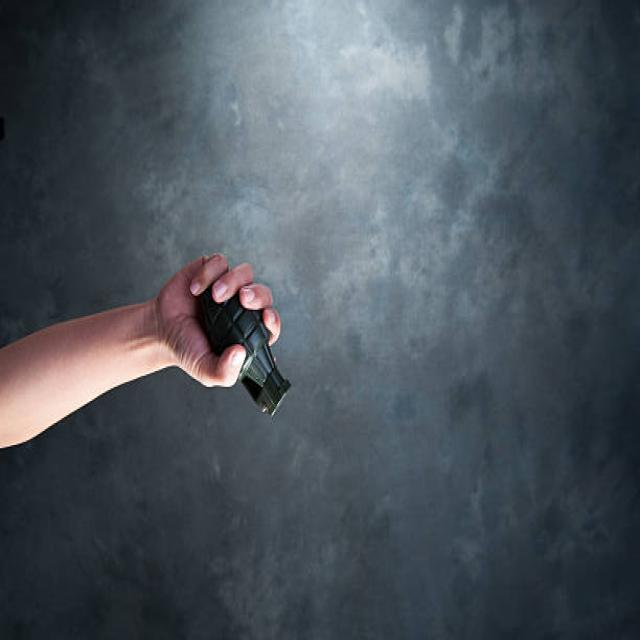grenade: (193, 281, 294, 424)
